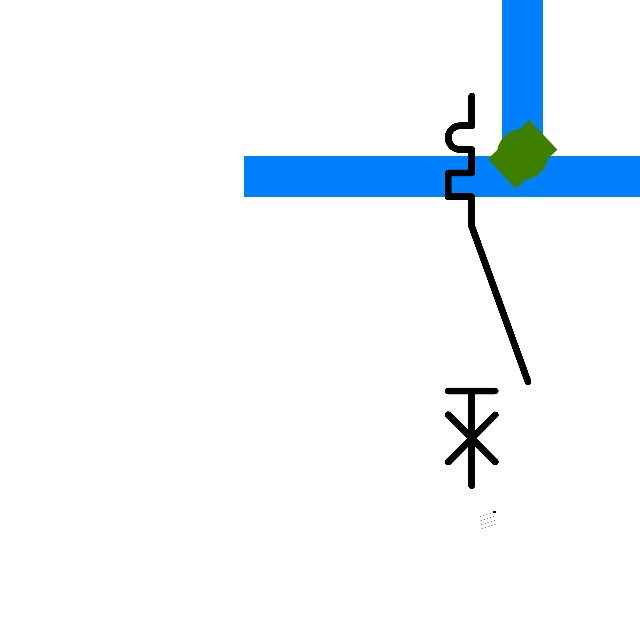interruptor_termomagnetico: (438, 86, 538, 496)
